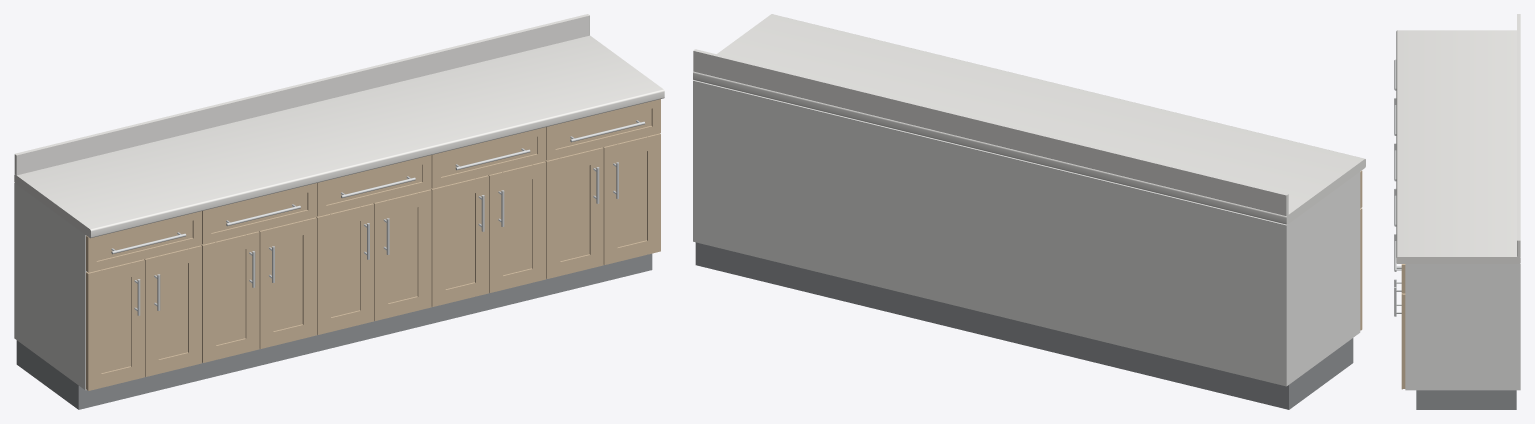
3 renders of one model, left to right at view 1: azimuth 30°, elevation 25°; view 2: azimuth 150°, elevation 25°; view 3: azimuth 270°, elevation 25°, orthographic. The views are drawn at different scales.
Parts seen in each view (by area): view 1: Tủ bếp dưới Dài=2700; Sâu=580; view 2: Tủ bếp dưới Dài=2700; Sâu=580; view 3: Tủ bếp dưới Dài=2700; Sâu=580.
Boxes of the visible parts, x1,y1,x2,y2 form: Tủ bếp dưới Dài=2700; Sâu=580: (14, 14, 664, 409); Tủ bếp dưới Dài=2700; Sâu=580: (693, 14, 1365, 409); Tủ bếp dưới Dài=2700; Sâu=580: (1394, 14, 1520, 409).
Bounding box in the file's own units: 2.7 × 0.94 × 0.635.
